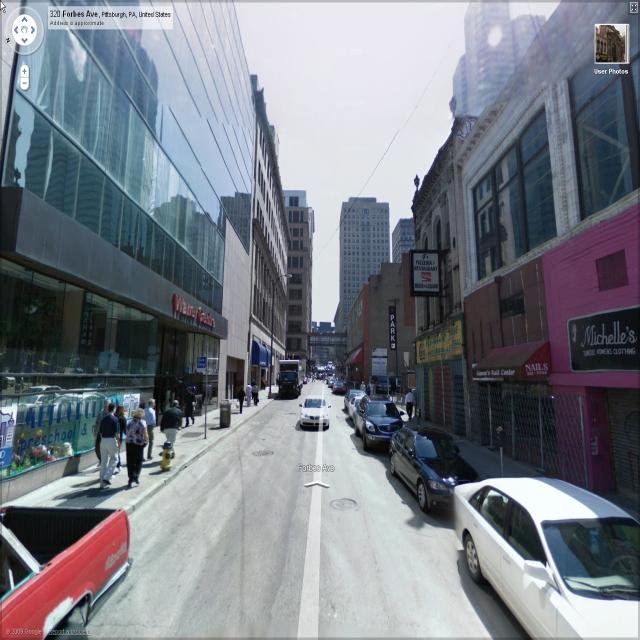b_1: (1, 1, 248, 388), (465, 16, 640, 442), (413, 129, 477, 429), (442, 0, 544, 132), (337, 269, 421, 402), (256, 109, 286, 387), (278, 186, 316, 366), (332, 180, 382, 291), (392, 211, 414, 254)
